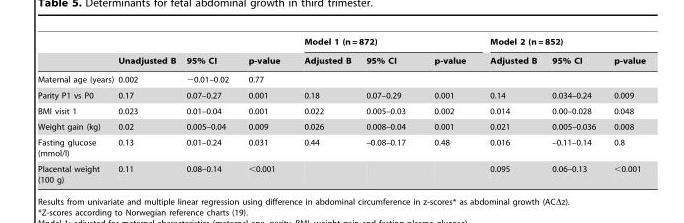table: (36, 37, 644, 183)
table column: (36, 37, 115, 183), (291, 37, 357, 183), (477, 37, 543, 183), (115, 37, 180, 183), (357, 37, 419, 183), (543, 37, 604, 183), (419, 37, 477, 183), (180, 37, 237, 183), (237, 37, 291, 183), (604, 37, 644, 183)
table column header: (36, 37, 644, 69)
table row: (36, 134, 644, 160), (36, 160, 644, 183), (36, 51, 644, 69), (36, 69, 644, 87), (36, 87, 644, 103), (36, 118, 644, 134), (36, 103, 644, 118), (36, 37, 644, 51)
table spanning cell: (291, 37, 477, 51), (477, 37, 644, 51), (115, 37, 180, 69), (180, 37, 237, 69), (237, 37, 291, 69)
